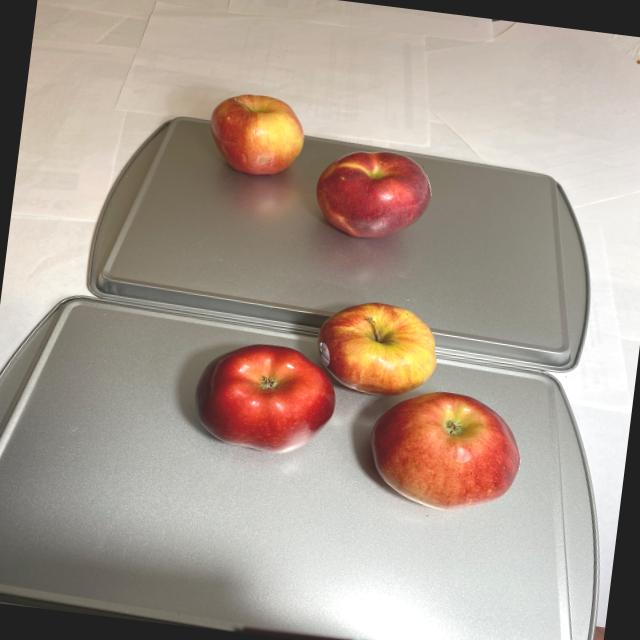apple: (182, 279, 542, 516), (189, 89, 444, 259)
